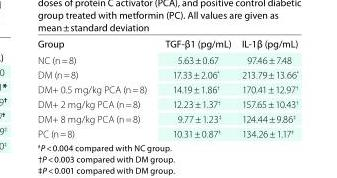table: (37, 37, 297, 138)
table column: (37, 37, 155, 138), (155, 37, 235, 138), (235, 37, 297, 138)
table column header: (37, 37, 297, 51)
table row: (37, 51, 297, 66), (37, 66, 297, 81), (37, 81, 297, 96), (37, 110, 297, 125), (37, 37, 297, 51), (37, 96, 297, 110), (37, 125, 297, 138)
